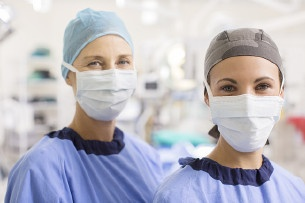Mask: (209, 73, 285, 149)
